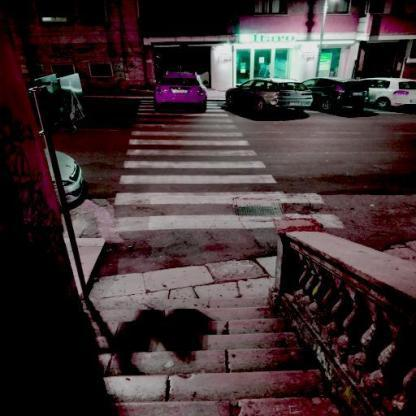crosswalk: (116, 159, 284, 188), (128, 123, 246, 139)
